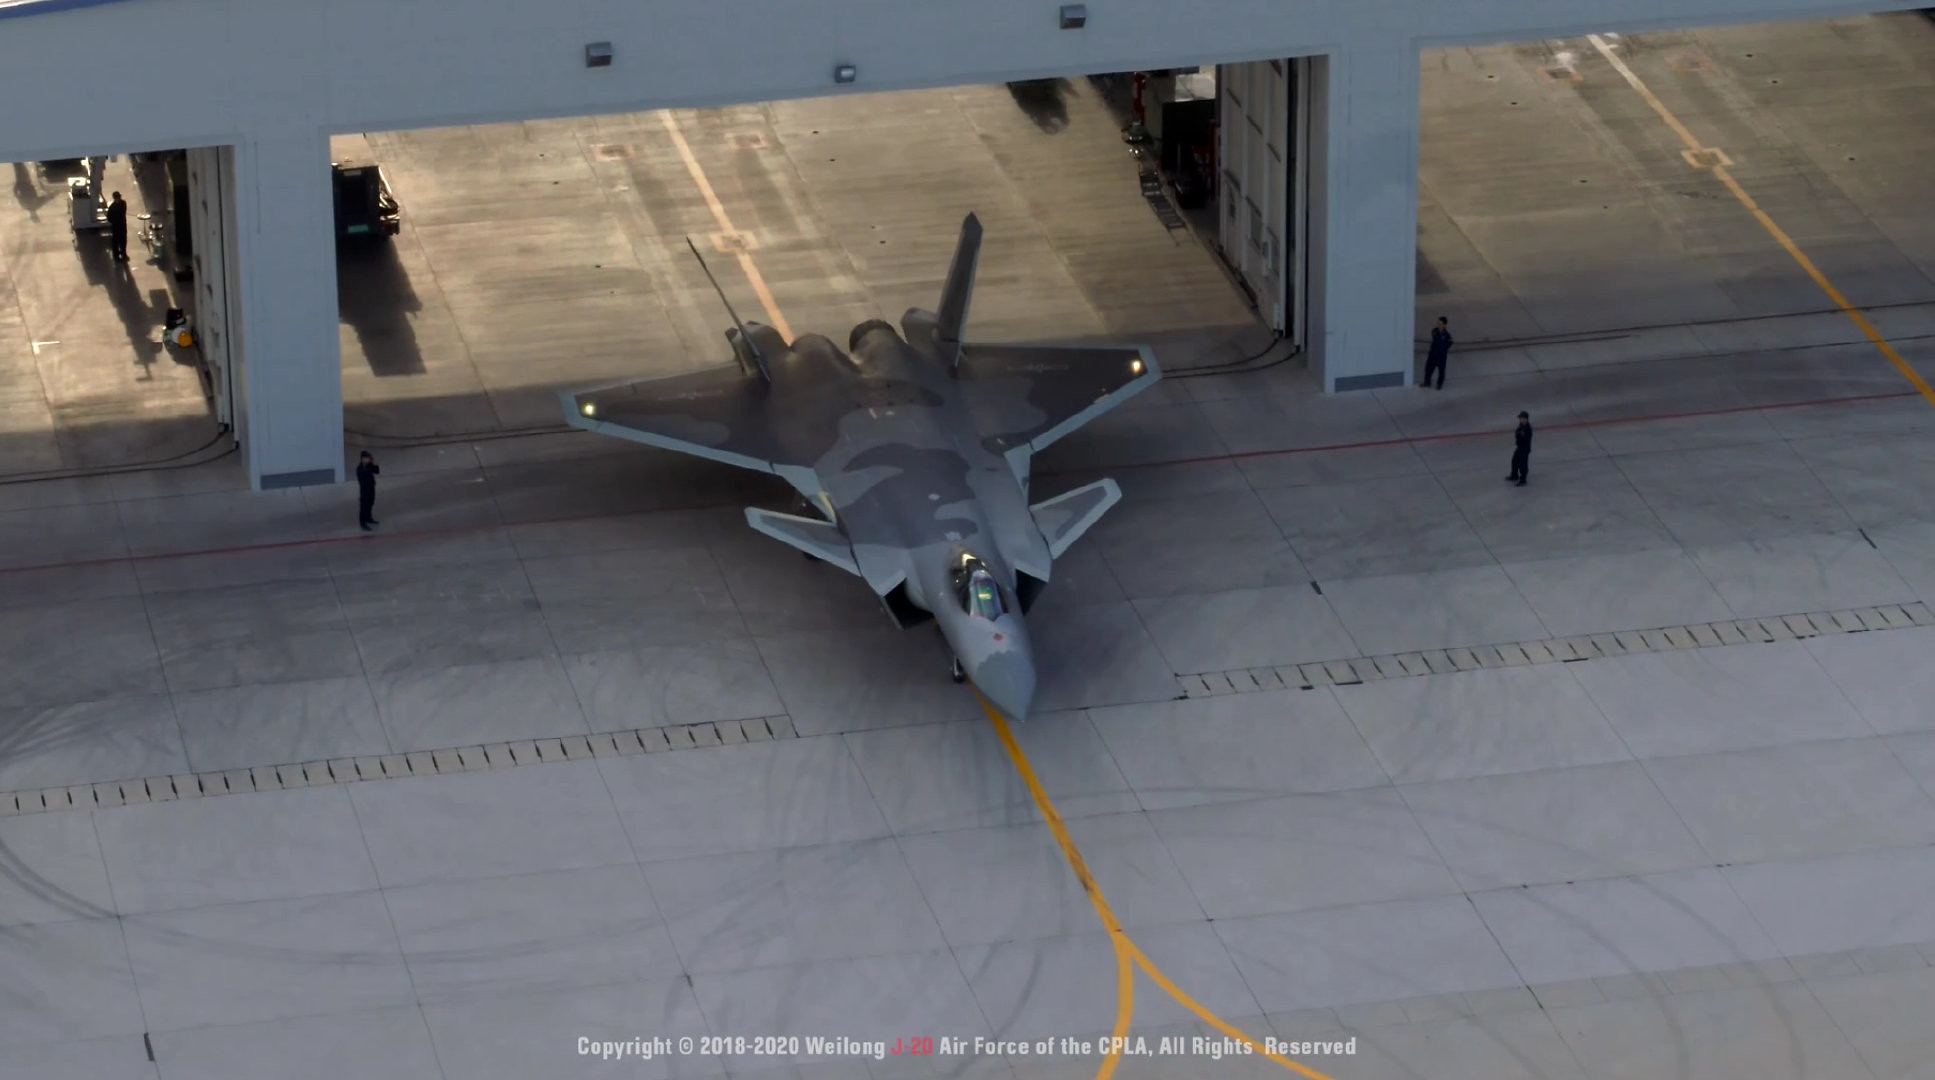J20: (557, 211, 1162, 724)
